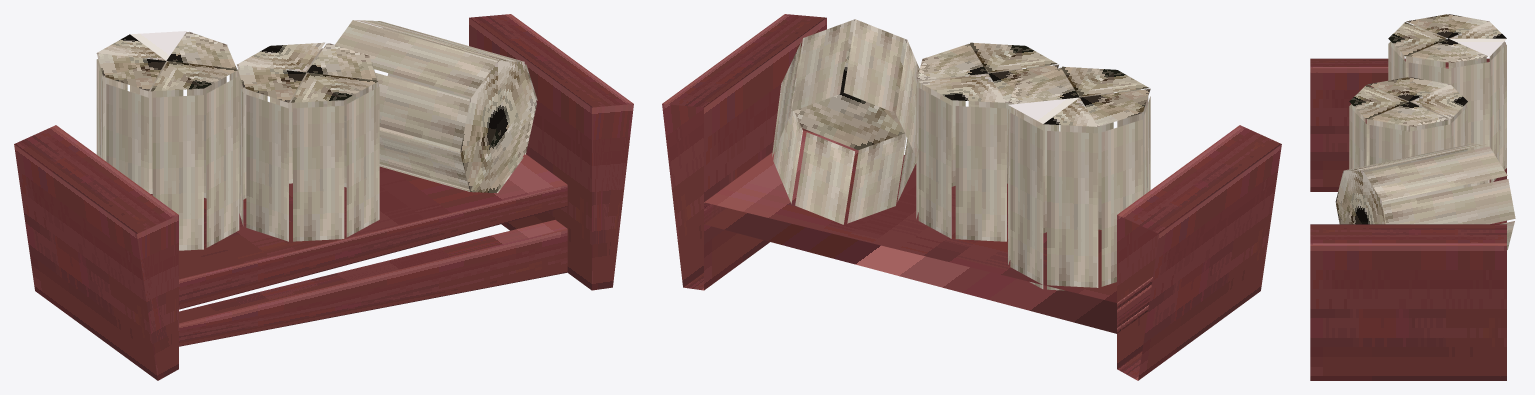
File: papa42-1.glb
The picture shows the model from 3 angles, left to right: view 1: azimuth 30°, elevation 25°; view 2: azimuth 150°, elevation 25°; view 3: azimuth 270°, elevation 25°; orthographic projection. The views are drawn at different scales.
Visible parts, largest first — view 1: papa42_1; view 2: papa42_1; view 3: papa42_1.
Boxes of the visible parts, left/top/right/bottom form: papa42_1: left=14, top=14, right=633, bottom=380; papa42_1: left=662, top=14, right=1281, bottom=380; papa42_1: left=1310, top=14, right=1515, bottom=380.
Bounding box in the file's own units: 236 × 114 × 108.
3 materials, 3 textured.
